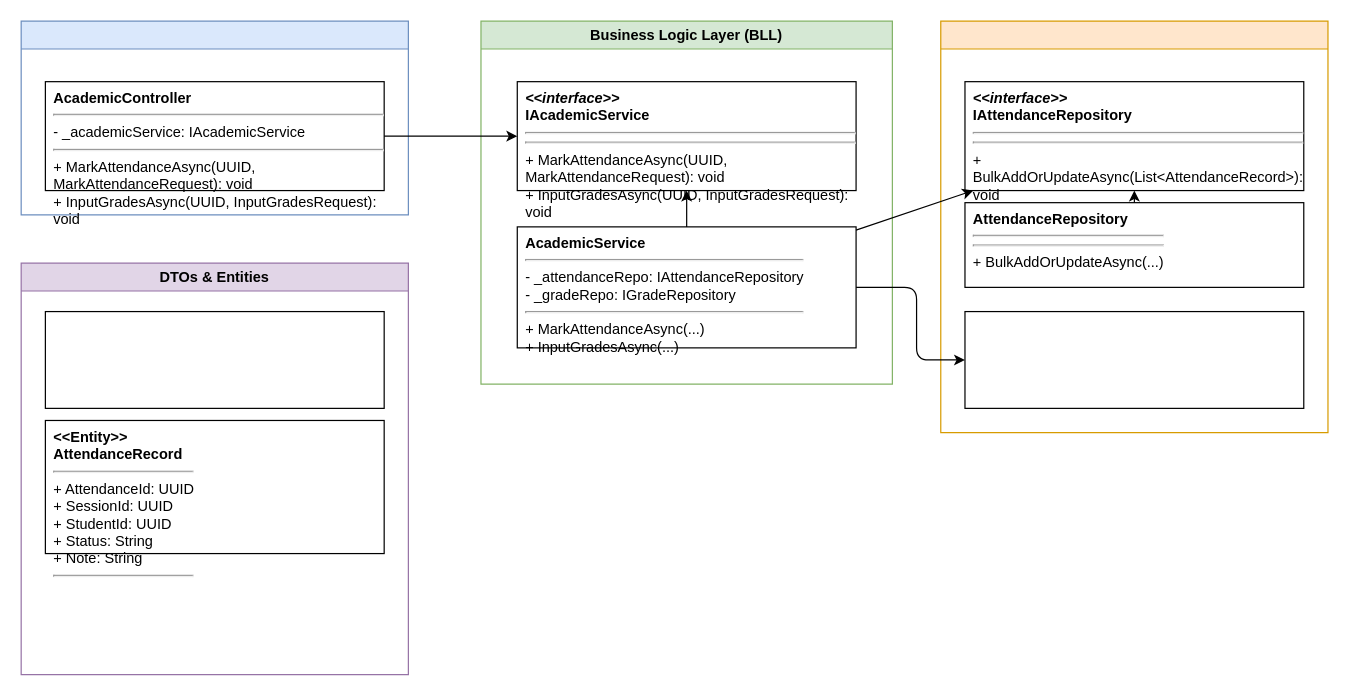
This 1349x696 diagram has some shape labels left out. The box of each missing label's shape, as (x1, y1, x2, y2) in pixels:
<<interface>> IGradeRepository + BulkAddOrUpdateAsync(List<GradeRecord>): void: (964, 310, 1304, 408)
API Layer: (20, 20, 408, 215)
Data Access Layer (DAL): (940, 20, 1328, 433)
MarkAttendanceRequest + SessionId: UUID + Records: List<AttendanceRecordDTO>: (44, 310, 384, 408)
